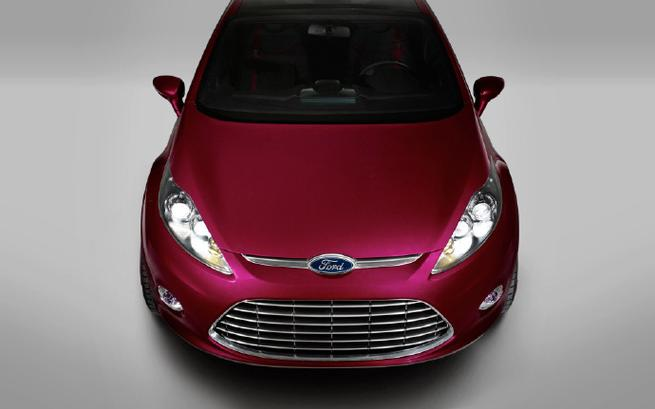汽车: (125, 2, 538, 384)
